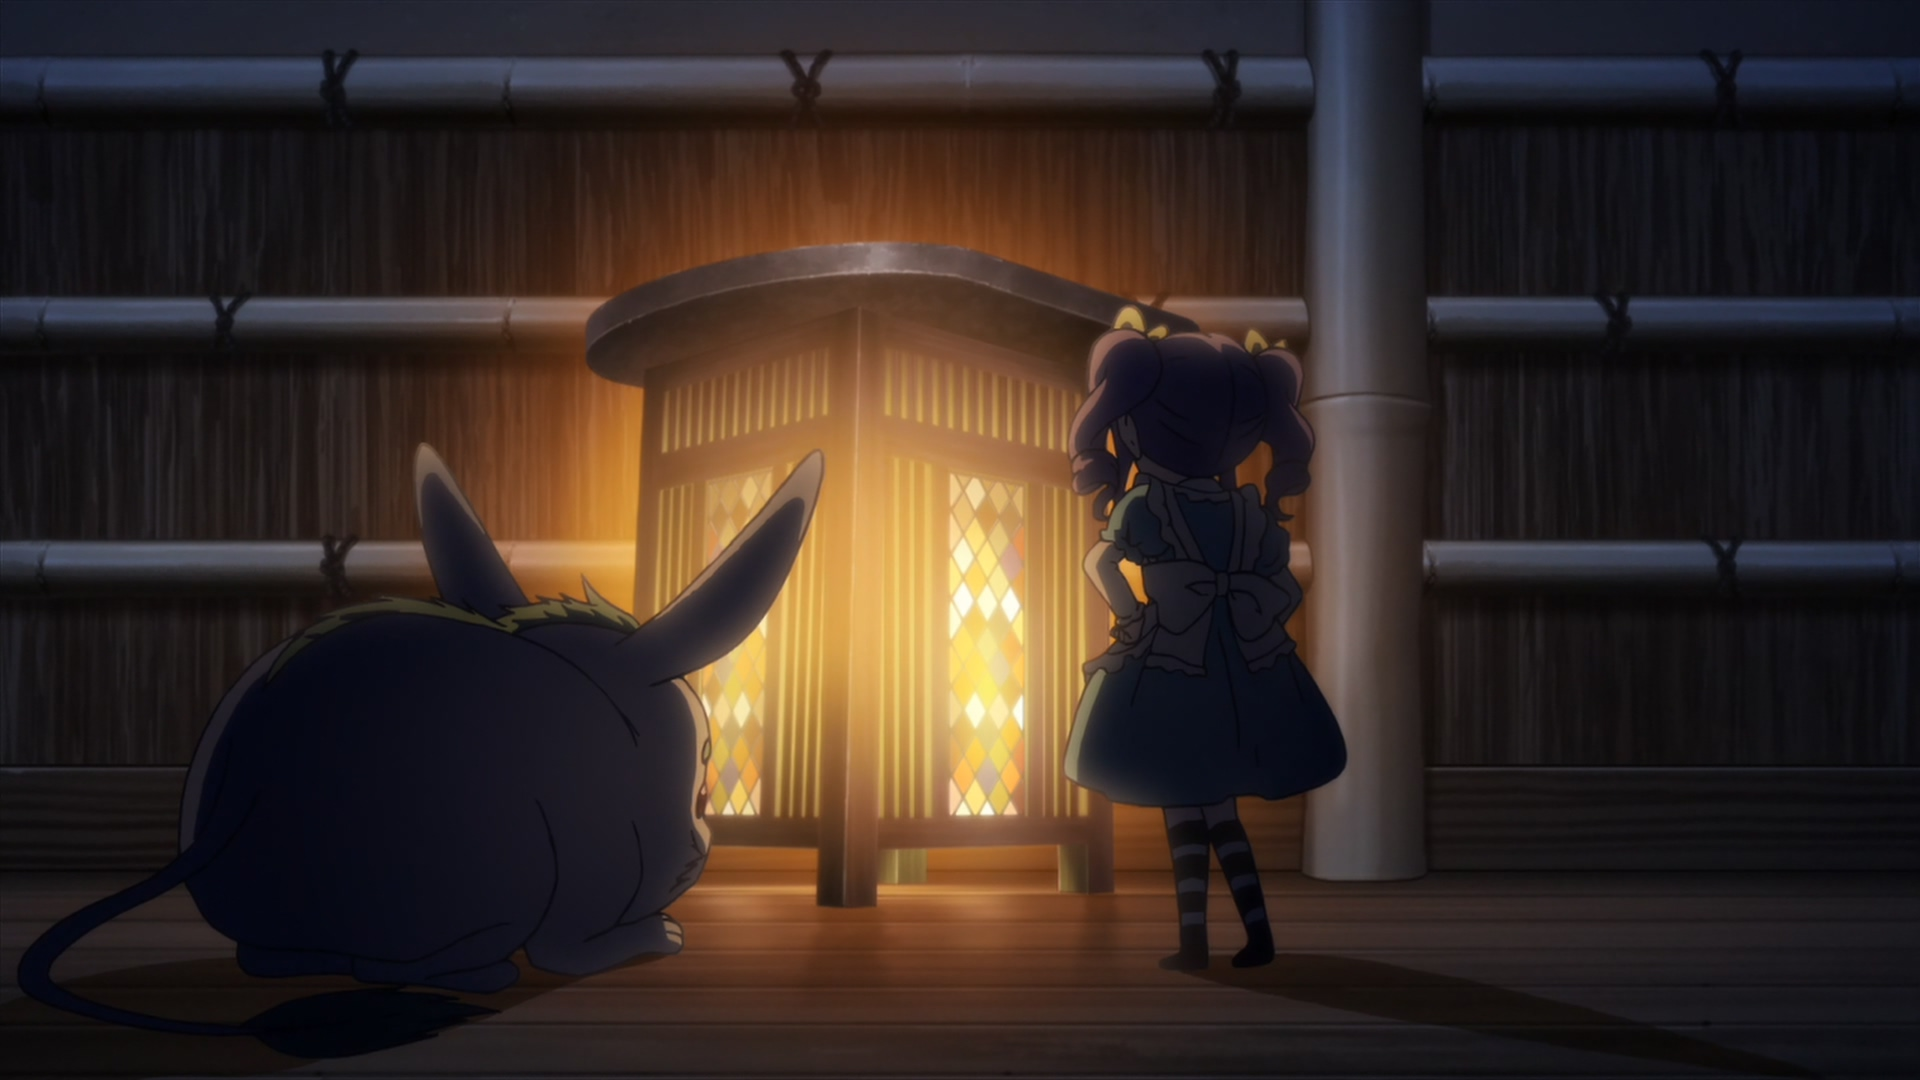瓜之介: (16, 444, 827, 1051)
阿菊: (1064, 307, 1349, 972)
